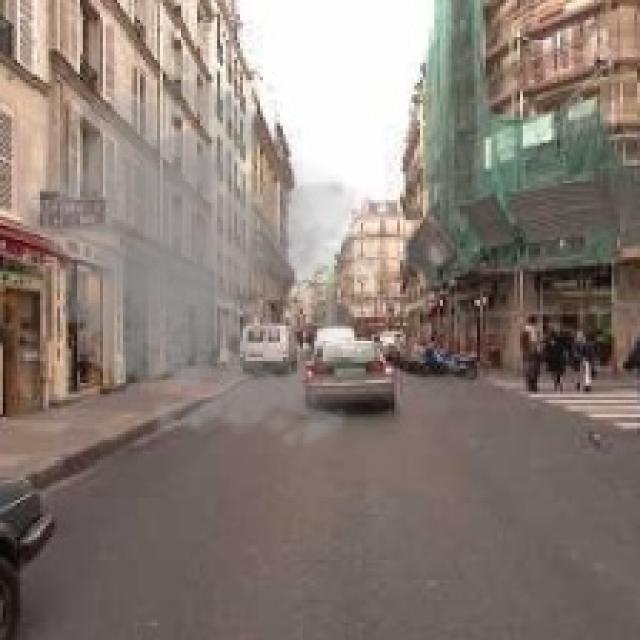Smoke: (6, 52, 414, 457)
